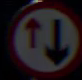Two way: (14, 5, 70, 65)
